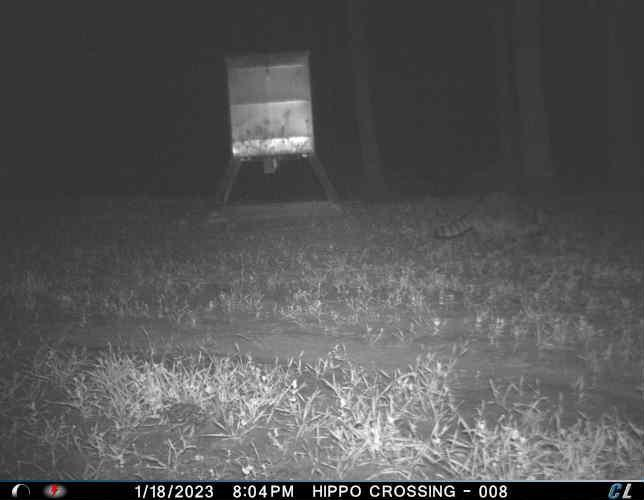Raccoon: (435, 190, 552, 253)
